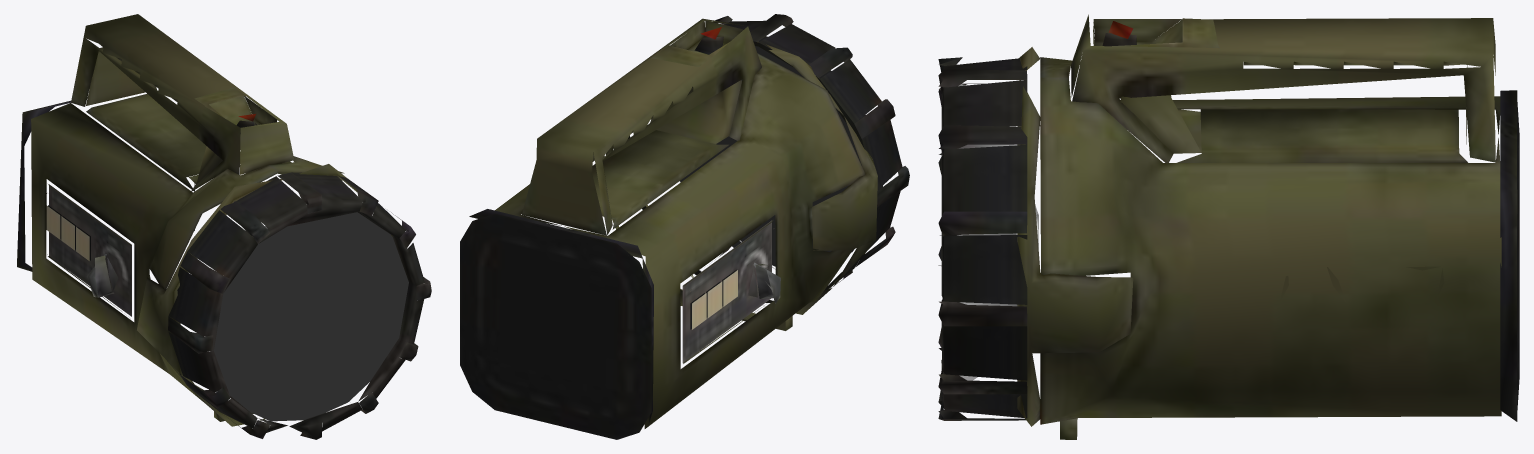
Rendered from searchlight.glb.
3 renders of one model, left to right at view 1: azimuth 30°, elevation 25°; view 2: azimuth 150°, elevation 25°; view 3: azimuth 270°, elevation 25°, orthographic. The views are drawn at different scales.
Visible parts, largest first — view 1: searchlight; view 2: searchlight; view 3: searchlight.
Part boxes in pixels (x1=…): searchlight: x1=17, y1=14, x2=431, y2=439; searchlight: x1=460, y1=14, x2=909, y2=439; searchlight: x1=938, y1=14, x2=1519, y2=439.
Size of the model in its own units: 0.1642 by 0.1832 by 0.2527.
Materials: 2 (2 with a texture image).
